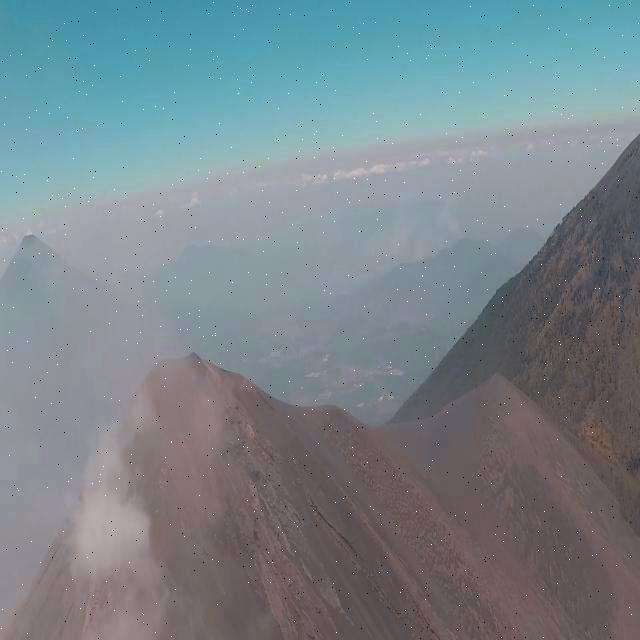Summit: (36, 345, 393, 575)
